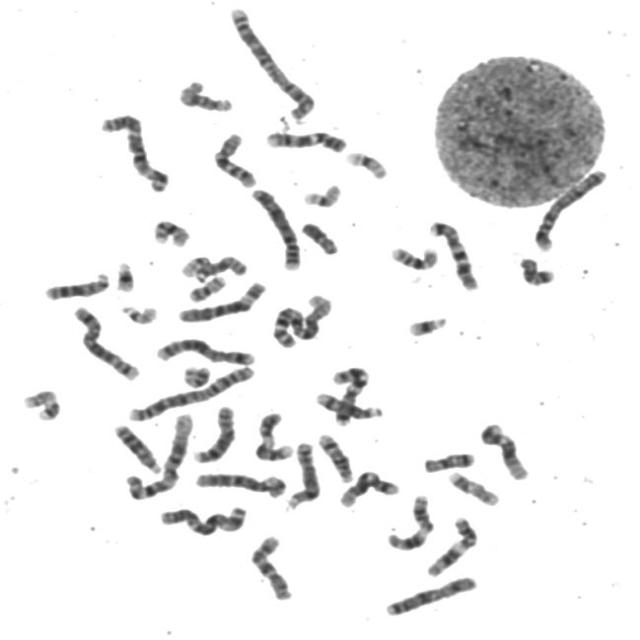A1: (120, 407, 196, 501), (266, 289, 336, 350)
A2: (224, 2, 317, 123), (122, 360, 258, 422)
A3: (94, 108, 172, 194), (154, 501, 248, 538)
B4: (528, 164, 608, 252), (246, 183, 304, 272)
B5: (68, 300, 142, 381), (149, 332, 256, 367)
C10: (244, 530, 295, 602), (207, 128, 259, 190)
C11: (420, 512, 479, 579), (381, 489, 436, 552)
C12: (474, 417, 530, 481), (334, 466, 401, 508)
C6: (173, 276, 269, 324), (189, 467, 289, 499)
C7: (423, 215, 481, 292), (326, 360, 372, 428)
C8: (188, 401, 239, 465), (281, 437, 322, 511)
C9: (259, 124, 349, 154), (249, 407, 295, 462)
D13: (109, 418, 162, 476), (38, 266, 112, 302)
D14: (310, 387, 386, 420), (313, 428, 355, 484)
D15: (172, 76, 235, 113), (190, 251, 250, 282)
E16: (384, 241, 440, 271), (148, 214, 192, 248)
E17: (442, 466, 502, 507), (18, 384, 62, 422)
E18: (418, 446, 476, 474), (513, 251, 557, 287)
F19: (340, 146, 391, 180), (297, 179, 343, 209)
F20: (182, 270, 229, 304), (178, 360, 213, 390)
G21: (401, 310, 450, 338), (110, 256, 137, 294)
G22: (115, 298, 161, 326), (176, 250, 212, 278)
X: (379, 570, 479, 618)
Y: (296, 217, 340, 256)
